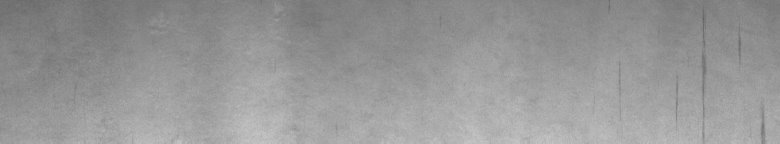ka: (618, 14, 768, 136)
